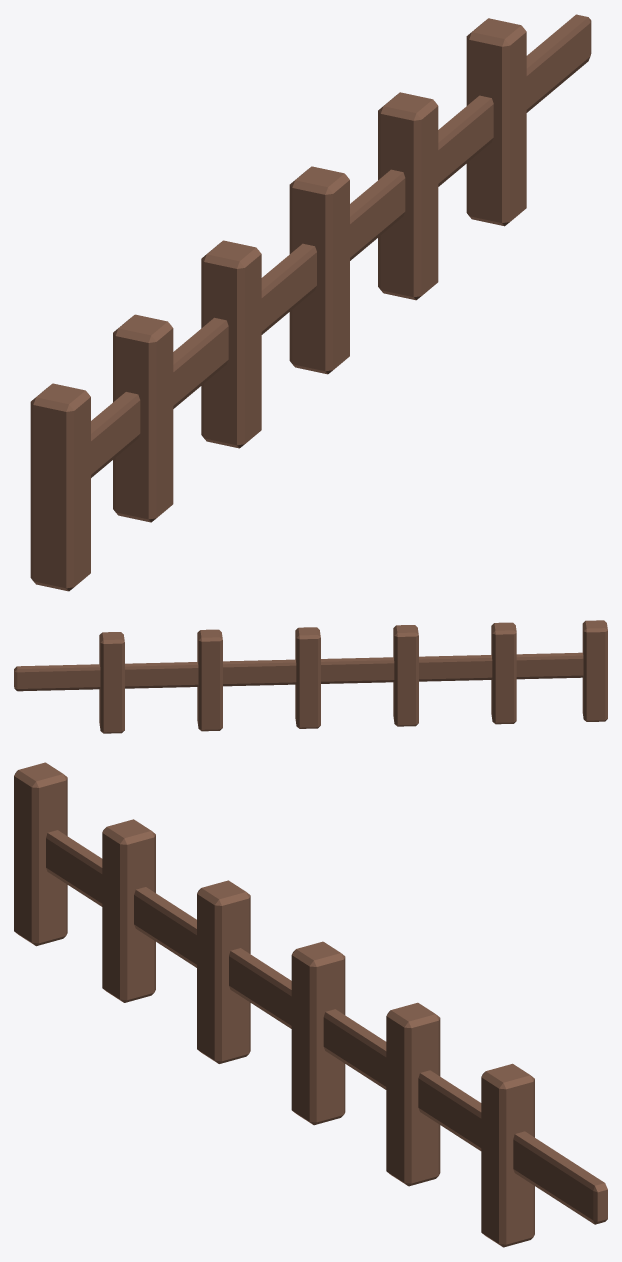
File: Fence_6_Section.glb
3 views of the same model, one above another, from view 1: azimuth 30°, elevation 25°; view 2: azimuth 150°, elevation 25°; view 3: azimuth 270°, elevation 25° (orthographic). The views are drawn at different scales.
Visible parts, largest first — view 1: Fence_6_Section; view 2: Fence_6_Section; view 3: Fence_6_Section.
Boxes of the visible parts, x1,y1,x2,y2 form: Fence_6_Section: (30,14,591,591); Fence_6_Section: (14,620,607,733); Fence_6_Section: (14,762,607,1247).
Bounding box in the file's own units: 9.76 × 2 × 6.53.
